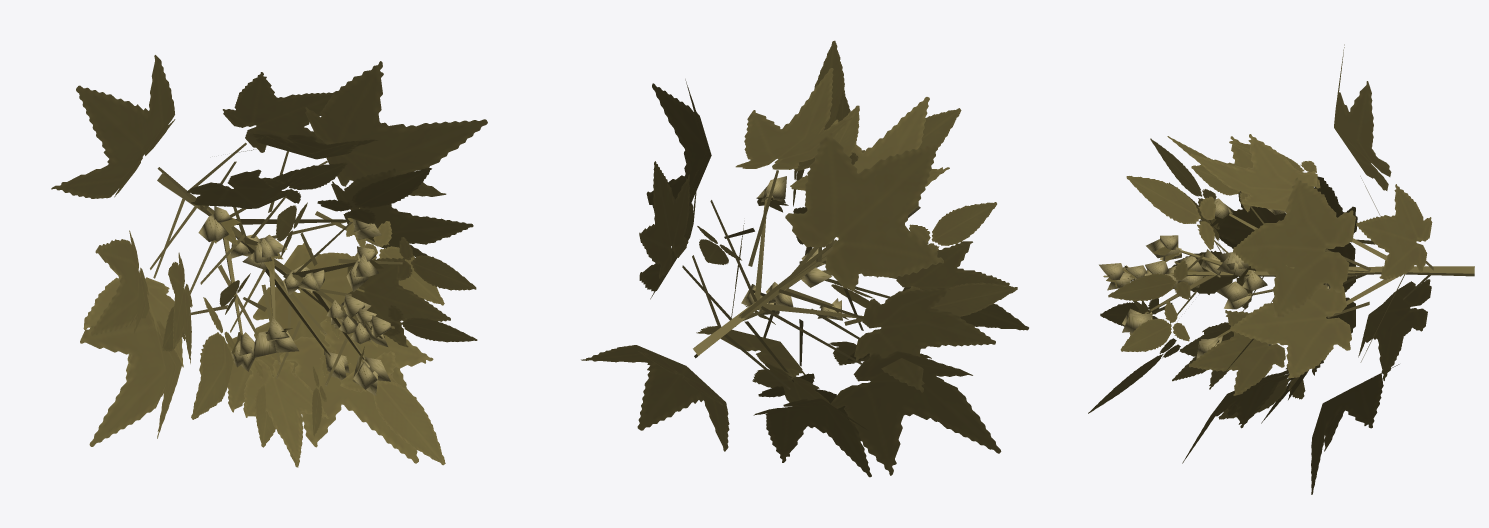
File: p_male_afghan_flowering_c2_cards.obj
The picture shows the model from 3 angles, left to right: view 1: azimuth 30°, elevation 25°; view 2: azimuth 150°, elevation 25°; view 3: azimuth 270°, elevation 25°; orthographic projection. The views are drawn at different scales.
Bounding box in the file's own units: 1.3 × 1.31 × 1.14.
Materials: 1 (1 with a texture image).
